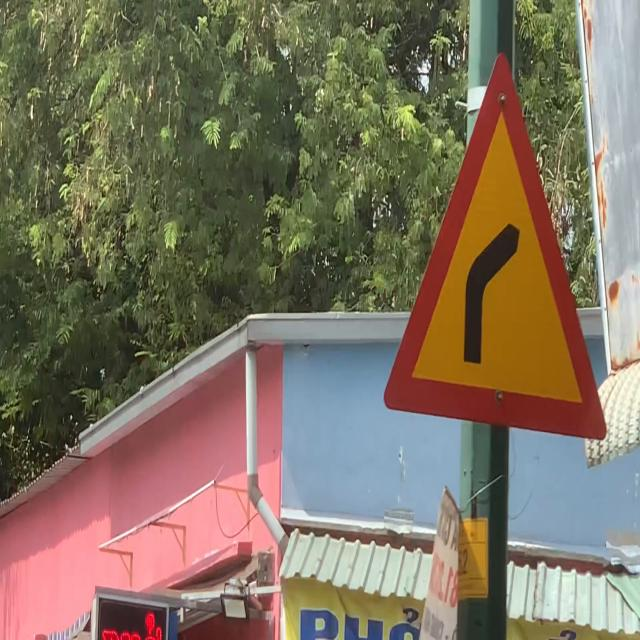Nguy hiem: (371, 40, 626, 479)
